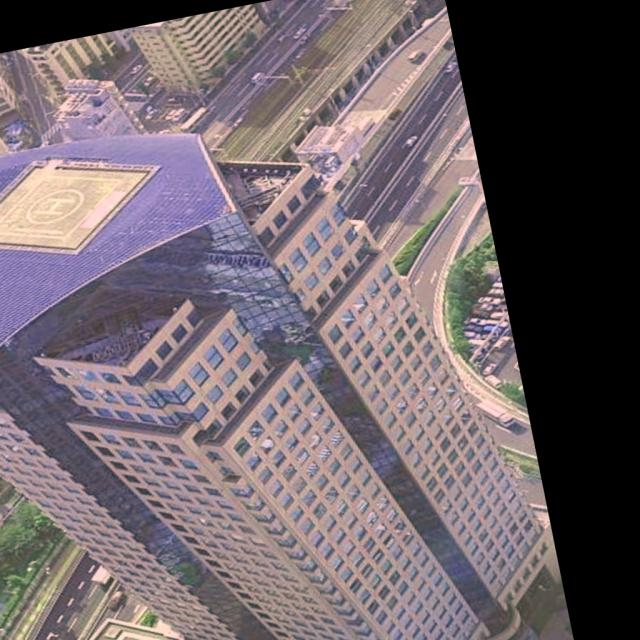helipad: (24, 187, 85, 225)
